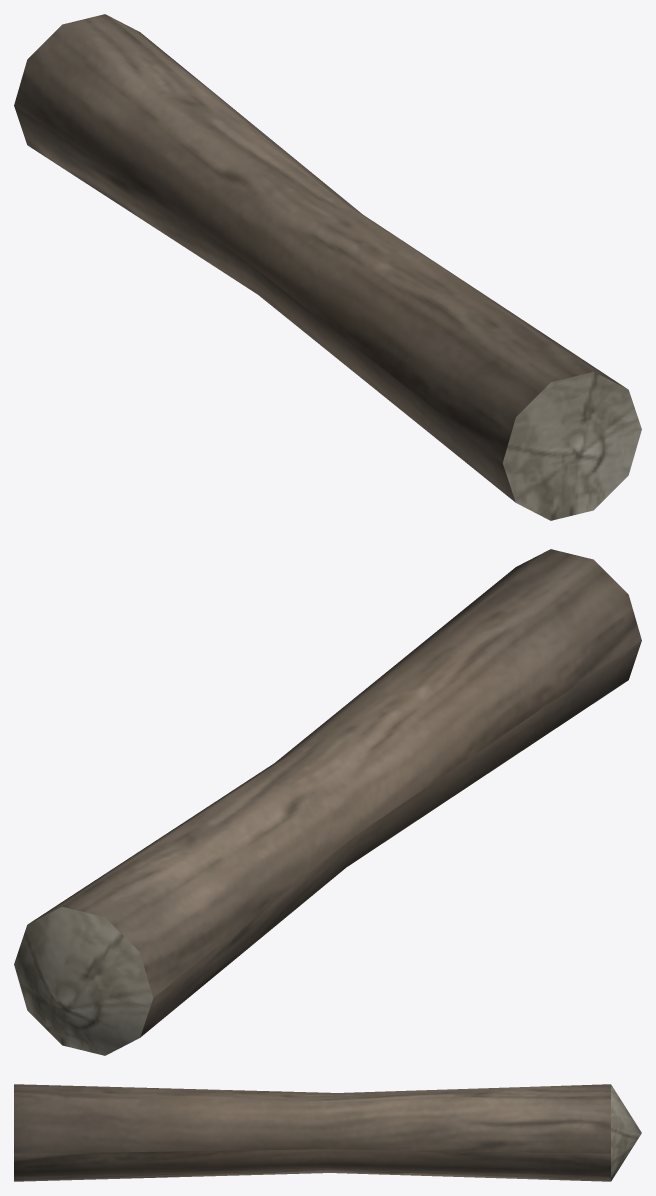
Rendered from Fence_Pole_Type_02_A.fbx.
3 views of the same model, one above another, from view 1: azimuth 30°, elevation 25°; view 2: azimuth 150°, elevation 25°; view 3: azimuth 270°, elevation 25° (orthographic). The views are drawn at different scales.
Parts seen in each view (by area): view 1: Fence_Pole_Type_02_A; view 2: Fence_Pole_Type_02_A; view 3: Fence_Pole_Type_02_A.
Boxes of the visible parts, x1=… form: Fence_Pole_Type_02_A: x1=14, y1=14, x2=641, y2=520; Fence_Pole_Type_02_A: x1=14, y1=549, x2=641, y2=1055; Fence_Pole_Type_02_A: x1=14, y1=1084, x2=641, y2=1181.
Size of the model in its own units: 0.2524 by 0.2401 by 1.61.
